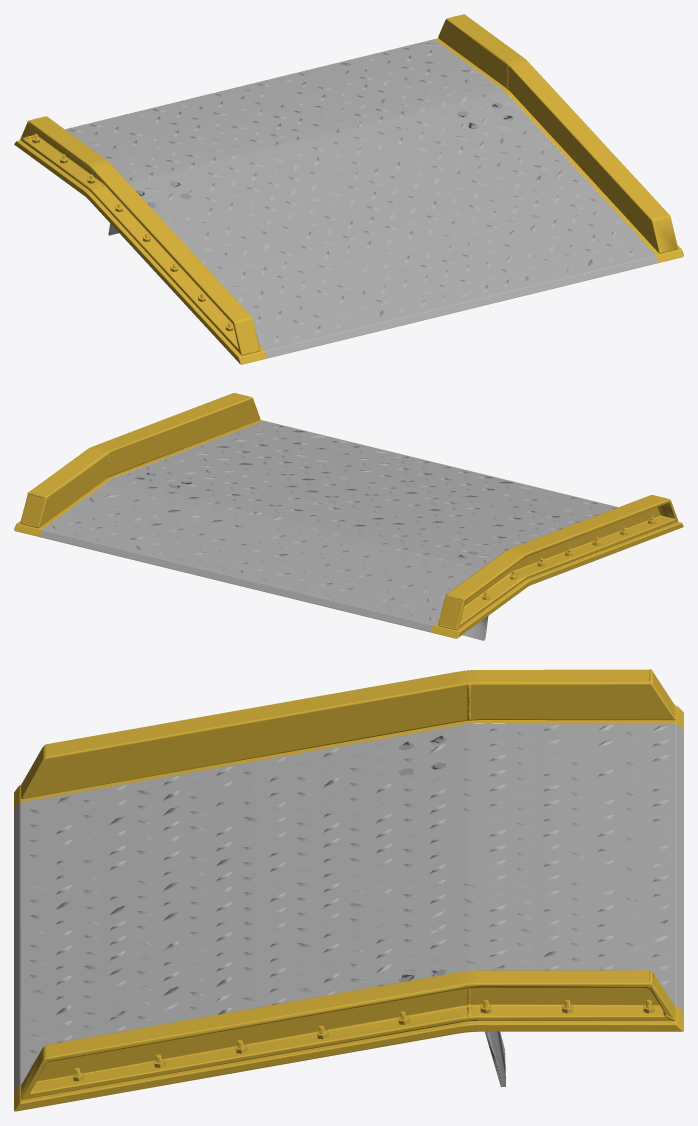
File: dock_board.glb
The picture shows the model from 3 angles, top to bottom: view 1: azimuth 30°, elevation 25°; view 2: azimuth 150°, elevation 25°; view 3: azimuth 270°, elevation 25°; orthographic projection. The views are drawn at different scales.
Visible parts, largest first — view 1: body; view 2: body; view 3: body.
Part boxes in pixels (x1,y1,x2,y2): body: (14,14,683,364); body: (14,393,683,640); body: (14,669,683,1111).
Size of the model in its own units: 1.37 by 0.254 by 1.22.
3 materials, 1 textured.
